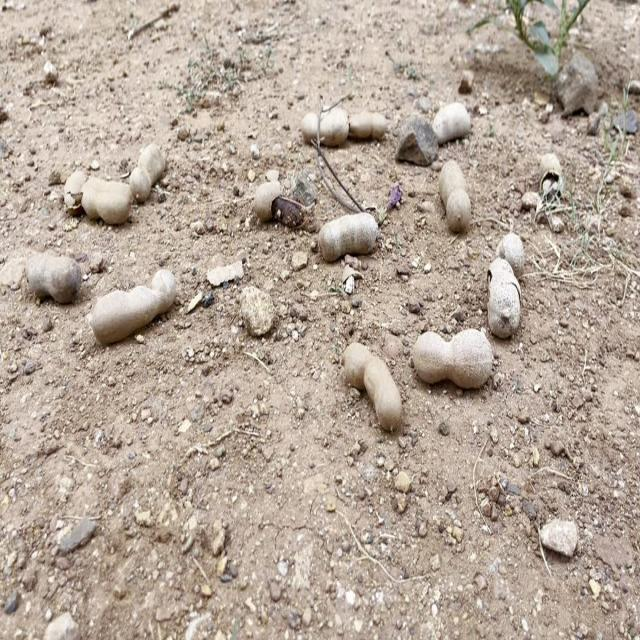tamarind: (339, 326, 402, 436), (92, 260, 176, 340), (408, 324, 497, 390), (481, 256, 535, 336), (66, 166, 132, 224), (17, 250, 83, 295), (319, 210, 376, 254), (132, 143, 165, 196), (427, 103, 477, 135), (297, 107, 349, 137), (498, 229, 532, 271), (350, 111, 396, 138)
